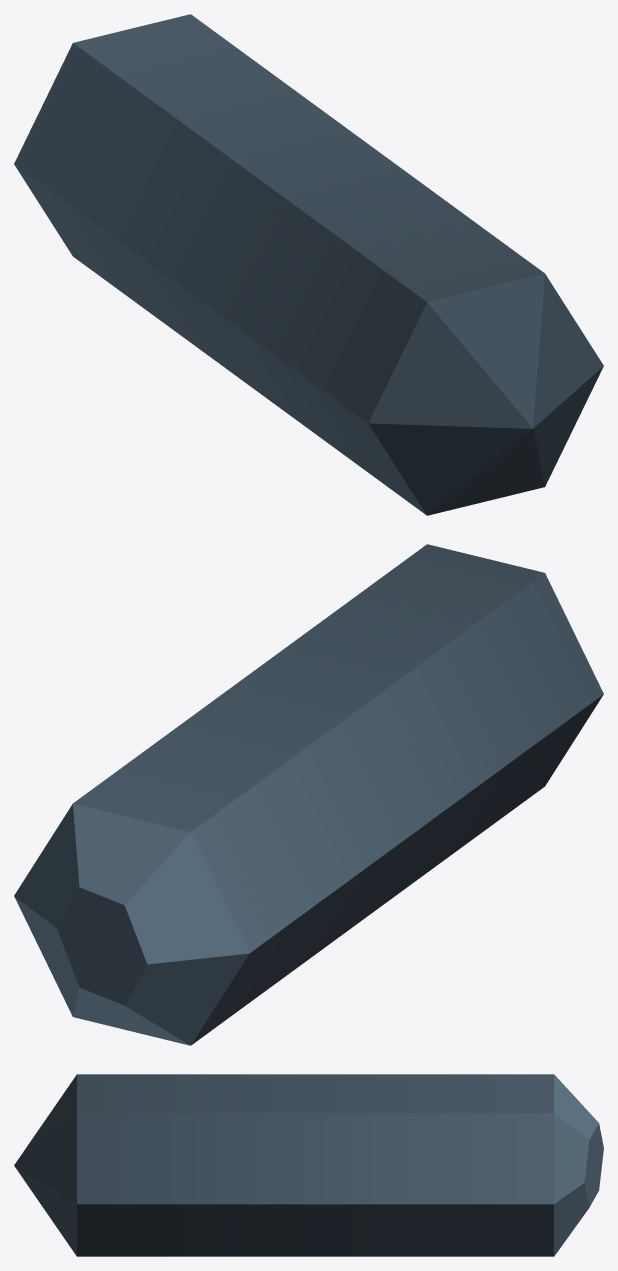
Rendered from CalciteCrystal.011.glb.
3 views of the same model, one above another, from view 1: azimuth 30°, elevation 25°; view 2: azimuth 150°, elevation 25°; view 3: azimuth 270°, elevation 25° (orthographic). The views are drawn at different scales.
Parts seen in each view (by area): view 1: CalciteCrystal.011; view 2: CalciteCrystal.011; view 3: CalciteCrystal.011.
Boxes of the visible parts, bbox=[...] form: CalciteCrystal.011: bbox=[14, 14, 603, 515]; CalciteCrystal.011: bbox=[14, 544, 603, 1045]; CalciteCrystal.011: bbox=[14, 1074, 603, 1256].
Bounding box in the file's own units: 139 × 121 × 448.
